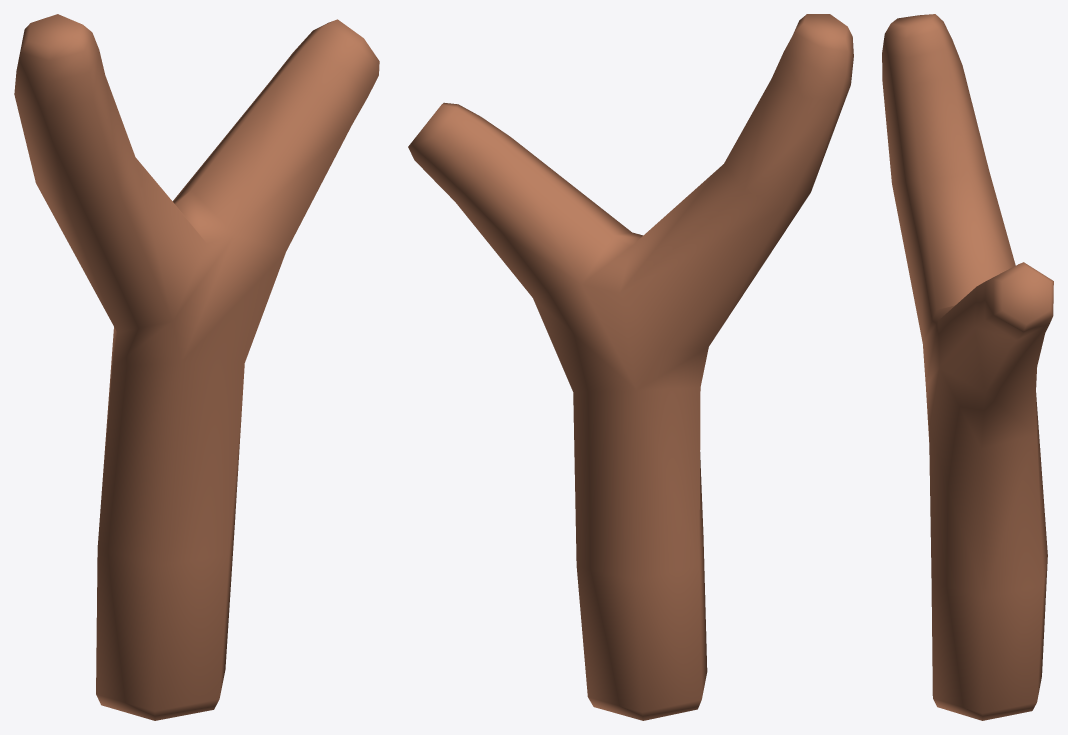
The model's file is Tree_Btm_C_02_LOD2.gltf.
3 views of the same model, side by side, from view 1: azimuth 30°, elevation 25°; view 2: azimuth 150°, elevation 25°; view 3: azimuth 270°, elevation 25° (orthographic). The views are drawn at different scales.
Visible parts, largest first — view 1: Tree_Btm_C_02_LOD2_Cylinder.672; view 2: Tree_Btm_C_02_LOD2_Cylinder.672; view 3: Tree_Btm_C_02_LOD2_Cylinder.672.
Boxes of the visible parts, box(x1,y1,x2,y2) form: Tree_Btm_C_02_LOD2_Cylinder.672: box(14, 14, 379, 720); Tree_Btm_C_02_LOD2_Cylinder.672: box(408, 14, 853, 720); Tree_Btm_C_02_LOD2_Cylinder.672: box(882, 14, 1053, 720).
Bounding box in the file's own units: 3.53 × 6.08 × 1.51.
Materials: 1 (1 with a texture image).
